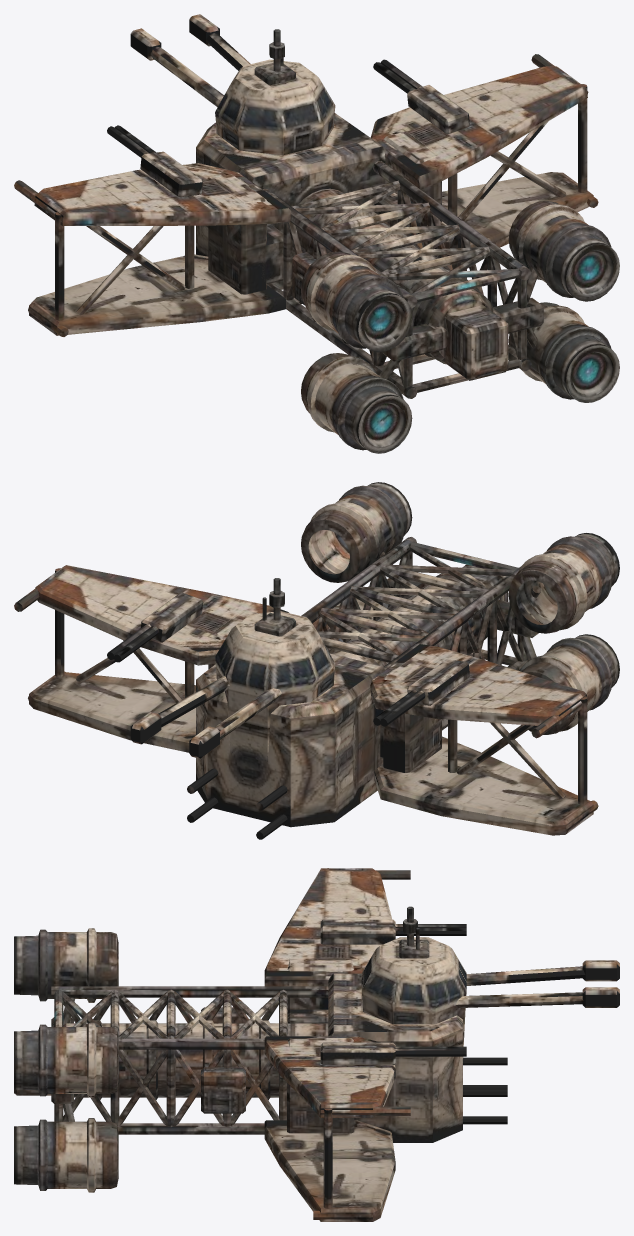
The model's file is scrapper-c.glb.
3 renders of one model, top to bottom at view 1: azimuth 30°, elevation 25°; view 2: azimuth 150°, elevation 25°; view 3: azimuth 270°, elevation 25°, orthographic. The views are drawn at different scales.
Visible parts, largest first — view 1: hero_scrapper_wings_c, hero_scrapper_hull_c, hero_scrapper_engines_c, hero_scrapper_cockpit_c; view 2: hero_scrapper_wings_c, hero_scrapper_hull_c, hero_scrapper_engines_c, hero_scrapper_cockpit_c; view 3: hero_scrapper_hull_c, hero_scrapper_wings_c, hero_scrapper_engines_c, hero_scrapper_cockpit_c.
Part boxes in pixels (box(x1,y1,x2,y2)): hero_scrapper_wings_c: box(14, 54, 598, 336); hero_scrapper_hull_c: box(130, 14, 531, 398); hero_scrapper_engines_c: box(301, 201, 619, 453); hero_scrapper_cockpit_c: box(215, 29, 335, 155); hero_scrapper_wings_c: box(14, 565, 598, 835); hero_scrapper_hull_c: box(130, 537, 527, 839); hero_scrapper_engines_c: box(301, 482, 619, 734); hero_scrapper_cockpit_c: box(215, 578, 335, 761); hero_scrapper_hull_c: box(14, 960, 619, 1142); hero_scrapper_wings_c: box(264, 868, 466, 1221); hero_scrapper_engines_c: box(14, 928, 118, 1192); hero_scrapper_cockpit_c: box(361, 906, 466, 1057).
Size of the model in its own units: 1.56 by 0.69 by 1.62.
1 material, 1 textured.
